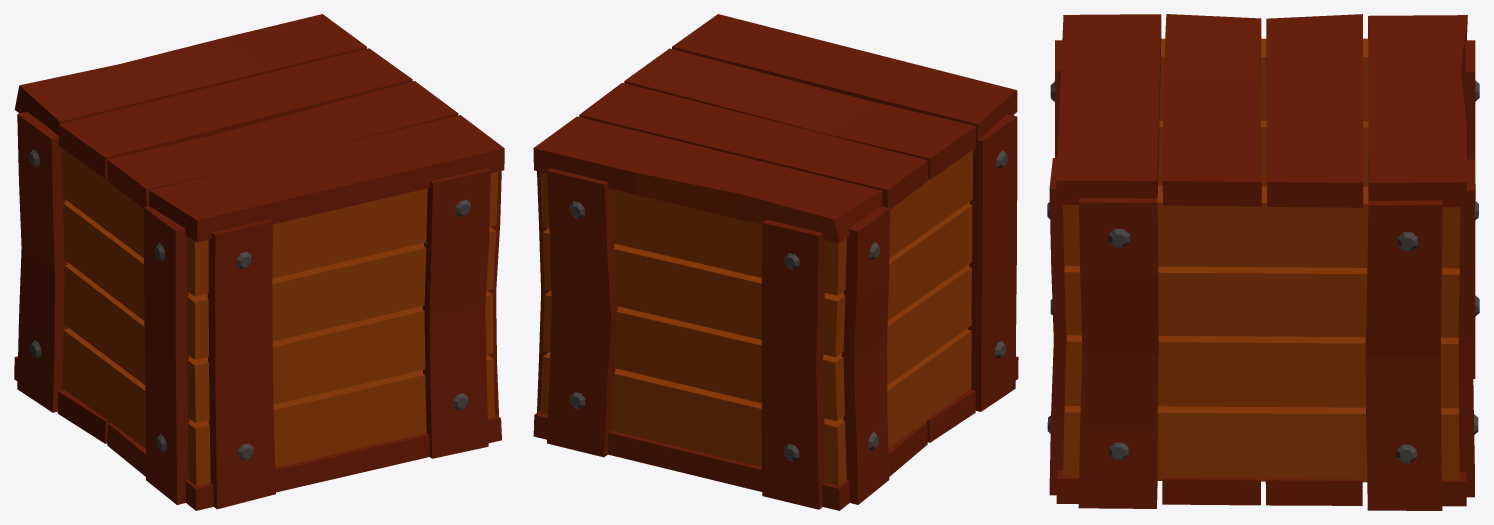
File: CajaMadera.fbx
3 views of the same model, side by side, from view 1: azimuth 30°, elevation 25°; view 2: azimuth 150°, elevation 25°; view 3: azimuth 270°, elevation 25° (orthographic). The views are drawn at different scales.
Parts seen in each view (by area): view 1: Item20_Cube.160; view 2: Item20_Cube.160; view 3: Item20_Cube.160.
Part boxes in pixels (bbox=[...]): Item20_Cube.160: bbox=[14, 14, 504, 510]; Item20_Cube.160: bbox=[533, 14, 1018, 510]; Item20_Cube.160: bbox=[1047, 14, 1479, 510].
Bounding box in the file's own units: 64.18 × 54.3 × 65.15.
1 material, 1 textured.
